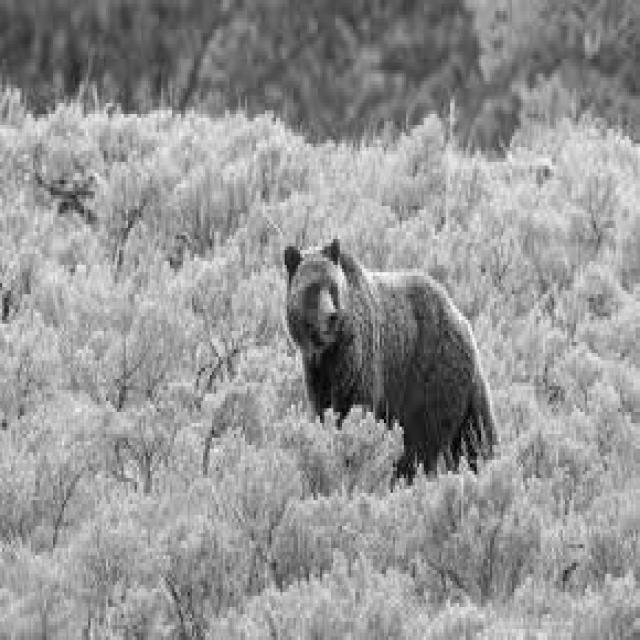Bear: (281, 230, 499, 487)
